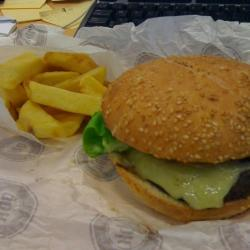burger: (110, 52, 247, 218)
fries: (14, 52, 96, 138)
